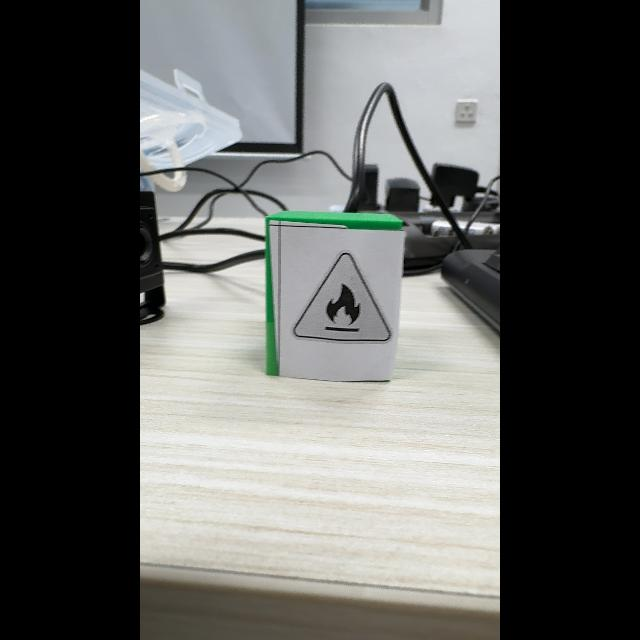Fire: (293, 253, 391, 343)
